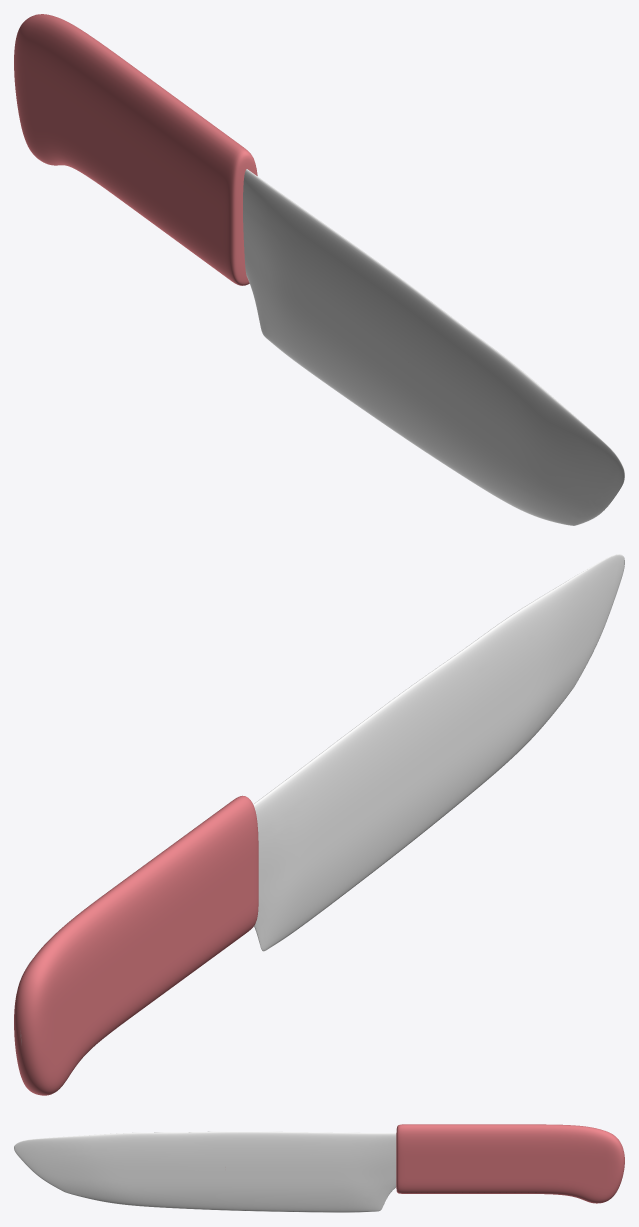
Rendered from SM_Knife.fbx.
3 views of the same model, one above another, from view 1: azimuth 30°, elevation 25°; view 2: azimuth 150°, elevation 25°; view 3: azimuth 270°, elevation 25° (orthographic). The views are drawn at different scales.
Parts seen in each view (by area): view 1: SM_Knife; view 2: SM_Knife; view 3: SM_Knife.
Boxes of the visible parts, bbox=[...] form: SM_Knife: bbox=[14, 14, 624, 525]; SM_Knife: bbox=[14, 554, 624, 1095]; SM_Knife: bbox=[14, 1124, 624, 1212].
Size of the model in its own units: 2.69 by 15.71 by 99.04.
